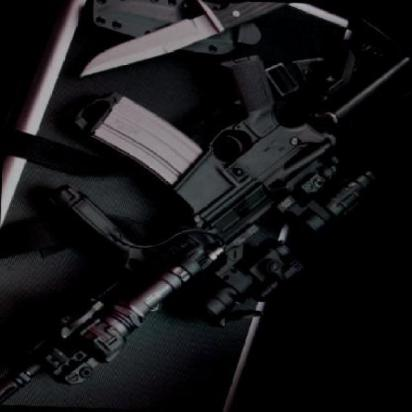Gun: (0, 6, 407, 412)
